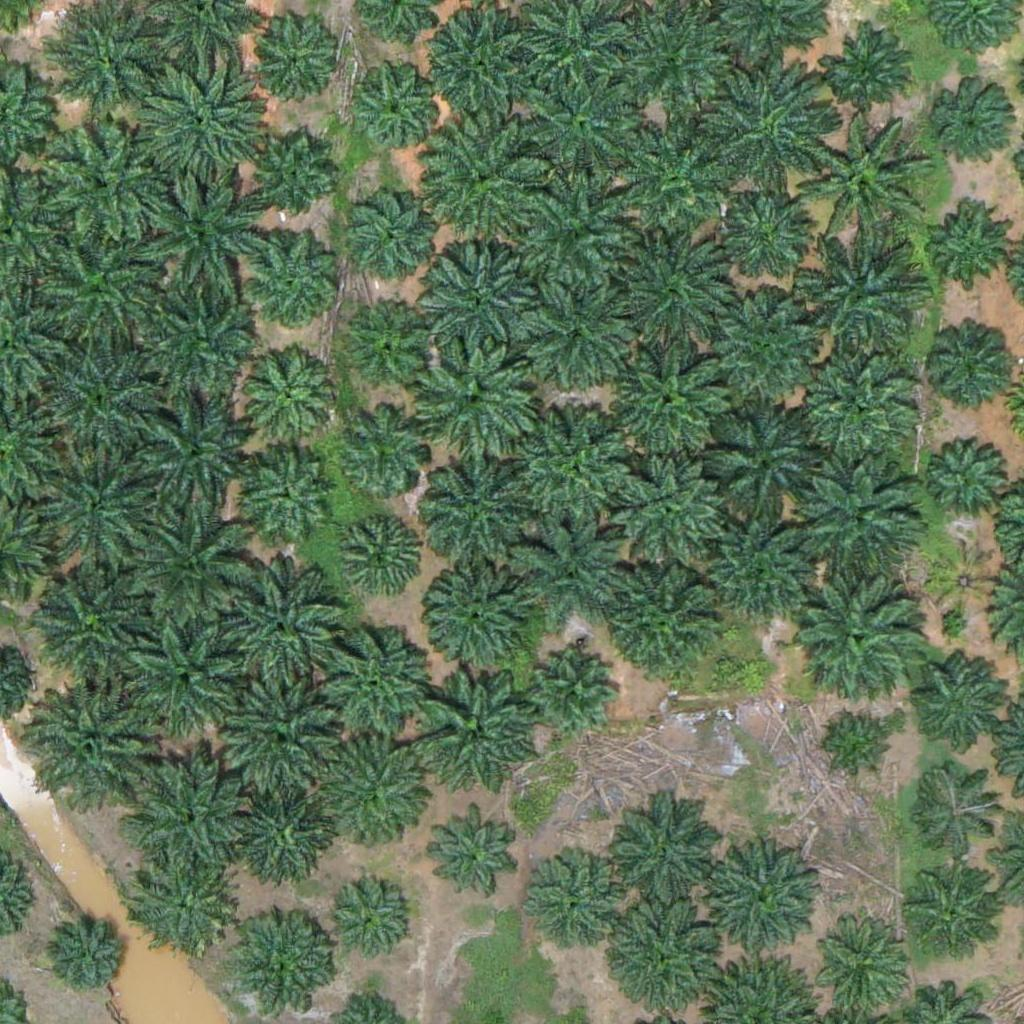Kelapa_Sawit: (615, 123, 740, 249), (615, 235, 740, 361), (609, 345, 734, 471), (603, 558, 728, 684), (513, 509, 638, 635), (509, 405, 634, 531), (516, 172, 641, 298), (521, 64, 646, 190), (419, 4, 544, 130), (418, 233, 543, 359), (414, 338, 539, 464), (412, 671, 537, 797), (319, 625, 444, 751), (228, 562, 353, 688), (213, 678, 338, 804), (128, 387, 253, 513), (136, 58, 261, 184), (137, 170, 262, 296), (141, 285, 266, 411), (45, 118, 170, 244), (38, 221, 163, 347), (39, 334, 164, 460), (35, 442, 160, 568), (24, 680, 149, 806), (125, 843, 250, 969), (122, 744, 247, 870), (700, 66, 825, 192), (700, 292, 825, 418), (697, 399, 822, 525), (698, 508, 823, 634), (792, 463, 917, 589), (800, 575, 925, 701), (800, 235, 925, 361), (797, 119, 922, 245), (599, 443, 724, 568), (513, 275, 638, 400), (430, 115, 555, 240), (122, 613, 247, 738), (130, 501, 255, 626), (795, 338, 920, 463), (324, 728, 437, 842), (417, 462, 530, 575), (422, 565, 535, 678), (29, 564, 142, 677), (611, 805, 724, 918), (604, 902, 717, 1015), (242, 235, 342, 336), (237, 345, 337, 446), (234, 445, 334, 546), (526, 853, 626, 954), (713, 848, 813, 949), (244, 6, 344, 106), (224, 784, 324, 884), (228, 916, 328, 1016), (905, 649, 1005, 749), (897, 765, 997, 865), (902, 865, 1002, 965), (338, 404, 426, 492), (349, 185, 437, 273), (327, 877, 415, 965), (725, 191, 813, 279), (933, 85, 1021, 173), (921, 197, 1009, 285), (925, 314, 1013, 402), (825, 23, 912, 112), (529, 645, 616, 733), (341, 508, 428, 596), (349, 303, 436, 391), (356, 62, 443, 150), (249, 135, 336, 223), (427, 808, 514, 896), (924, 433, 1011, 521), (49, 913, 124, 989), (814, 710, 889, 786), (931, 546, 993, 609)
